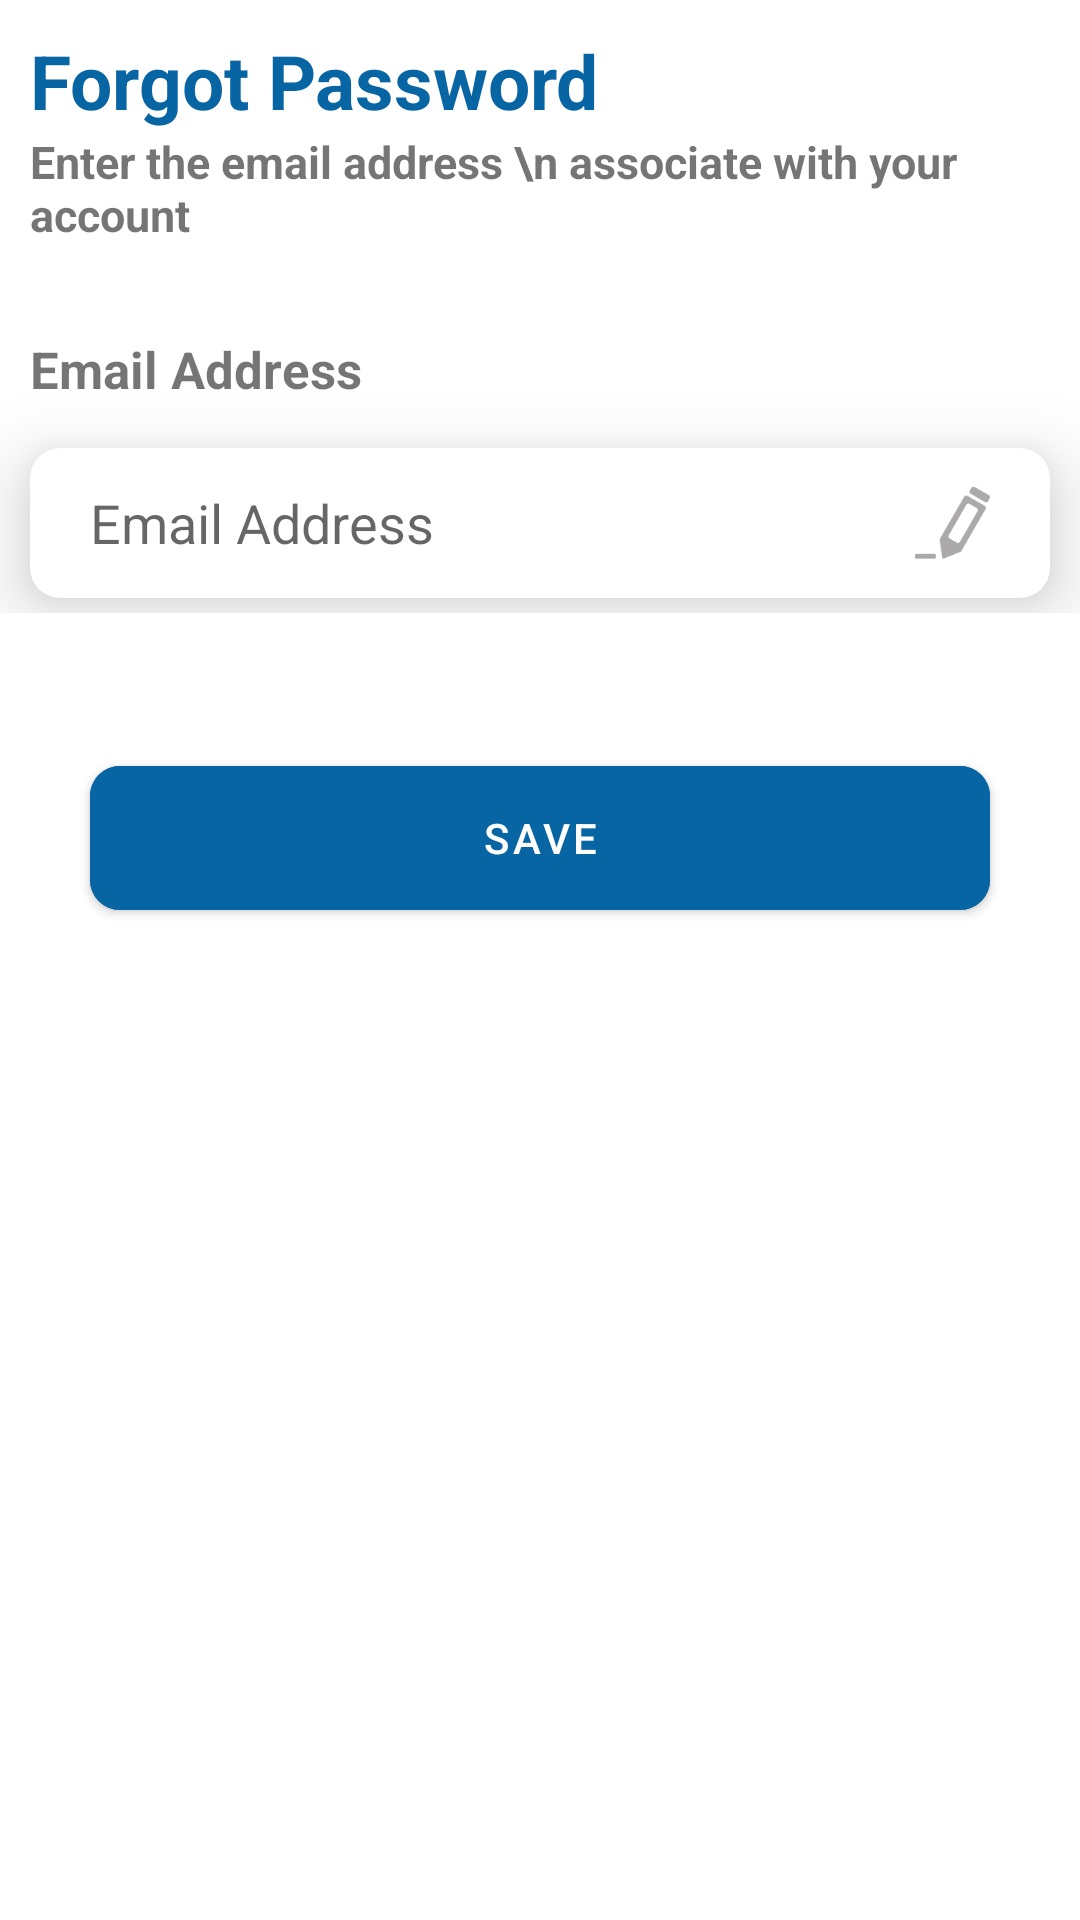

Icons on this 1080 x 1920 Android screen, each with the point to tap as [x,y]:
edit: [952,523]
